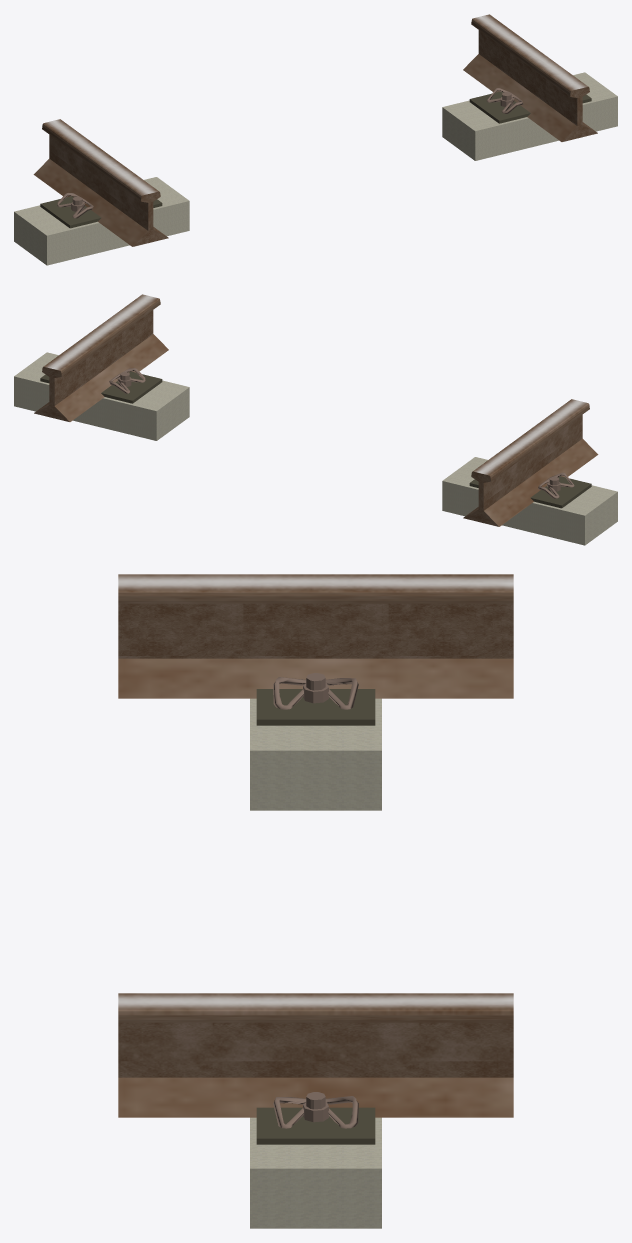
Rendered from main_tp3.obj.
The picture shows the model from 3 angles, top to bottom: view 1: azimuth 30°, elevation 25°; view 2: azimuth 150°, elevation 25°; view 3: azimuth 270°, elevation 25°; orthographic projection. The views are drawn at different scales.
Visible parts, largest first — view 1: rail, zhenmu_type3, daoding_1.1; view 2: rail, zhenmu_type3, daoding_1.1; view 3: rail, zhenmu_type3, daoding_1.1.
Boxes of the visible parts, <box> form: rail: <box>33,14,597,246</box>; zhenmu_type3: <box>14,72,617,265</box>; daoding_1.1: <box>40,88,591,228</box>; rail: <box>34,294,598,526</box>; zhenmu_type3: <box>14,352,617,545</box>; daoding_1.1: <box>40,368,591,508</box>; rail: <box>118,574,513,1117</box>; zhenmu_type3: <box>250,698,381,1228</box>; daoding_1.1: <box>256,673,375,1144</box>.
Bounding box in the file's own units: 2 × 0.2643 × 0.6.
Materials: 5 (5 with a texture image).
